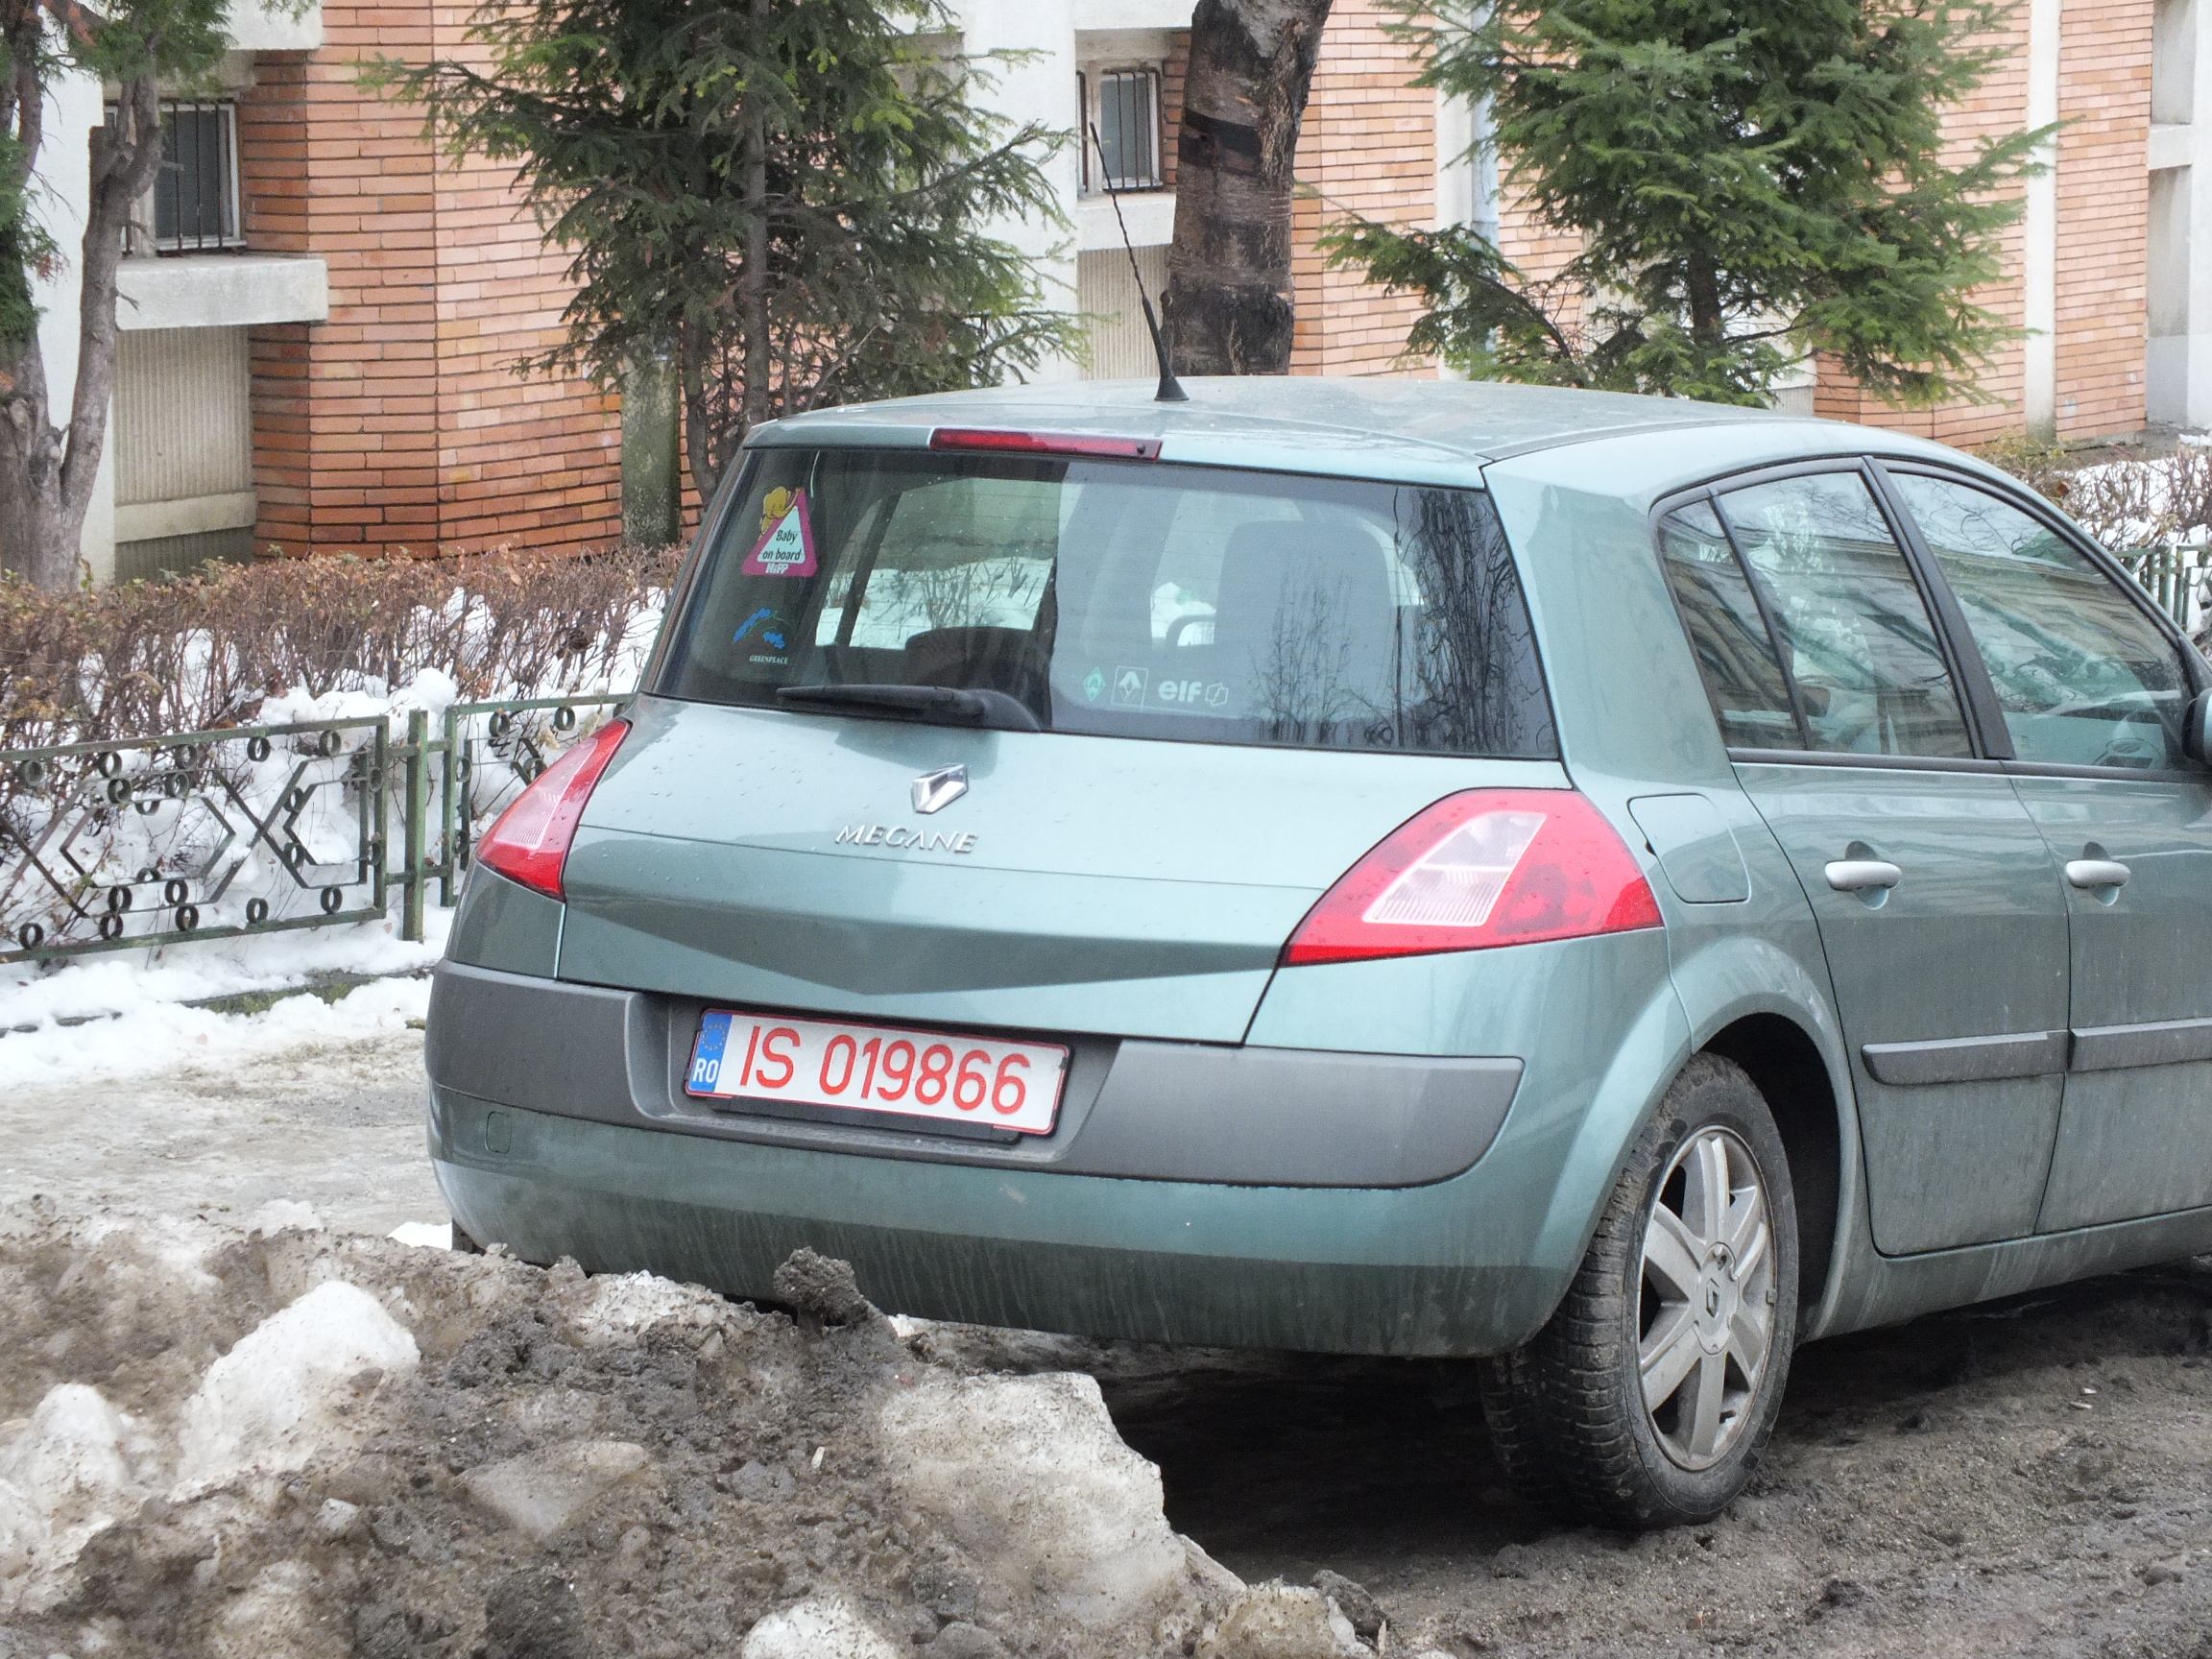IS019866: (707, 1020, 1046, 1122)
